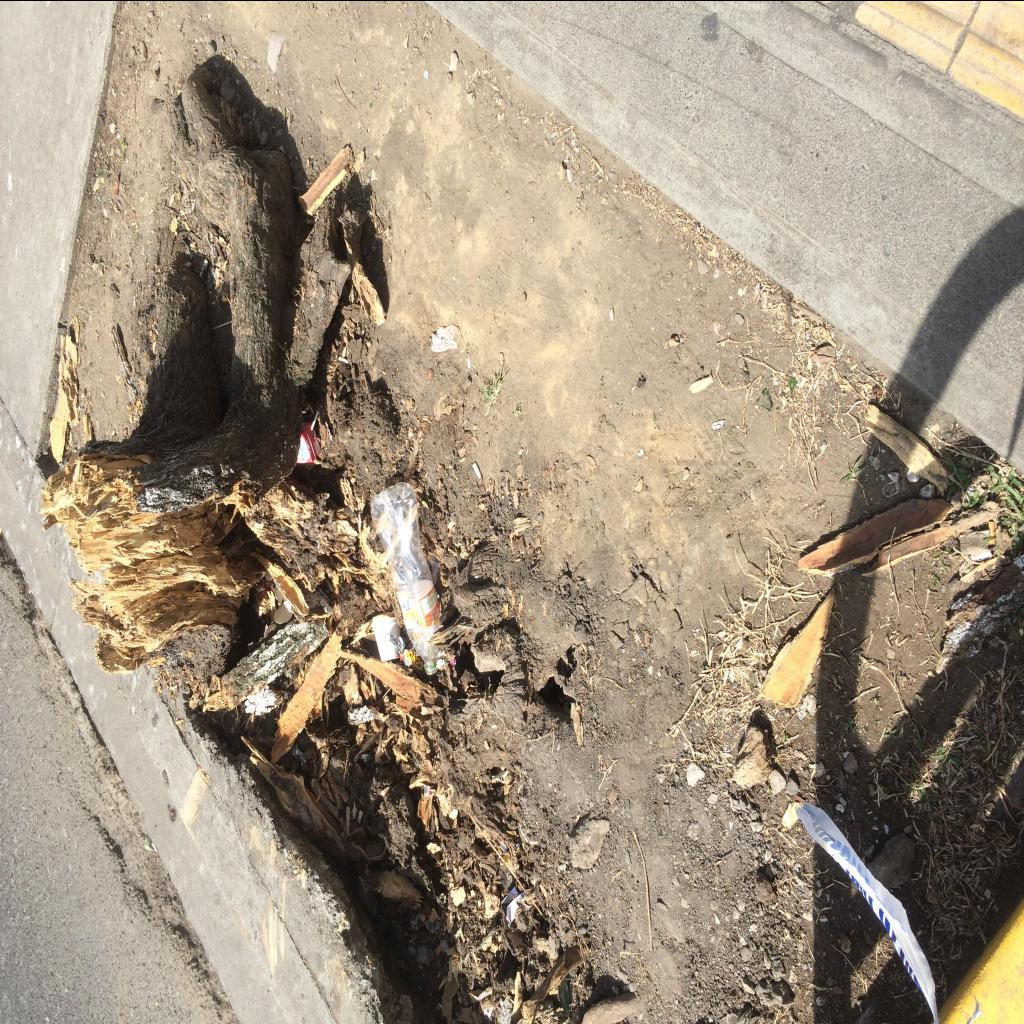Cigarette: (473, 461, 483, 480)
Clear plastic bottle: (372, 482, 440, 674)
Normal paper: (501, 886, 524, 924)
Plastic film: (796, 802, 940, 1022), (390, 634, 430, 680)
Plastic straw: (310, 410, 320, 430)
